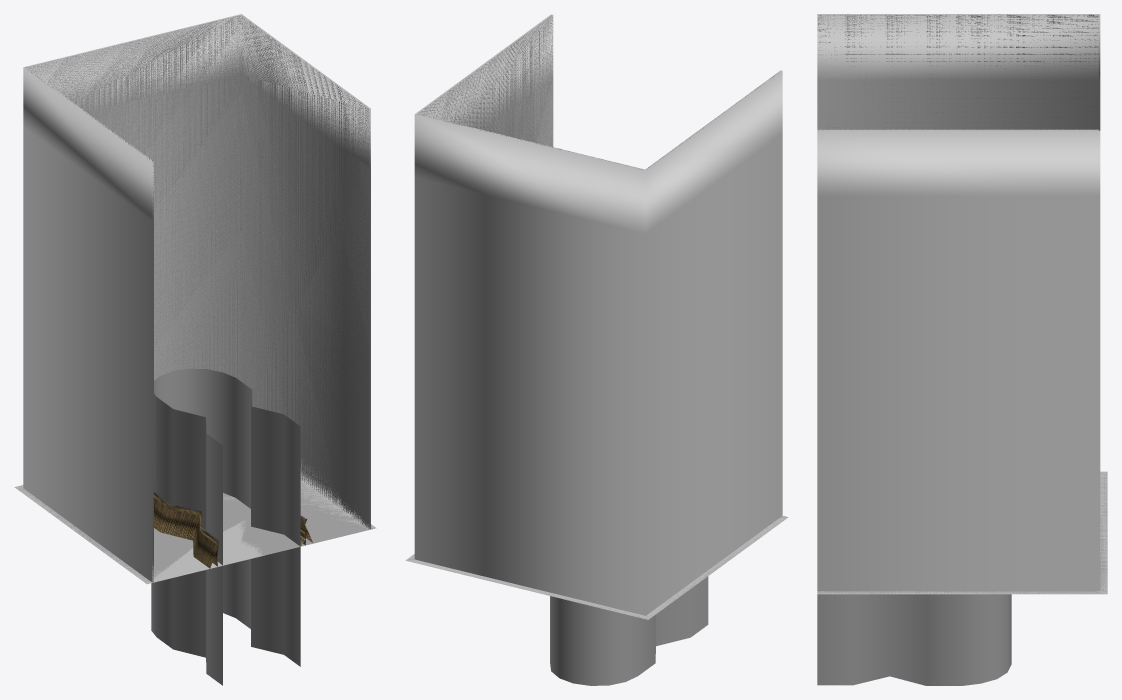
File: warp1.fbx
3 renders of one model, left to right at view 1: azimuth 30°, elevation 25°; view 2: azimuth 150°, elevation 25°; view 3: azimuth 270°, elevation 25°, orthographic. The views are drawn at different scales.
Visible parts, largest first — view 1: mdl_LOD0, col_o, col_w, mdl2_LOD; view 2: mdl_LOD0, mdl2_LOD, col_w, col_o; view 3: mdl_LOD0, mdl2_LOD, col_w, col_o.
Boxes of the visible parts, x1,y1,x2,y2 form: mdl_LOD0: [14, 75, 375, 584]; col_o: [15, 16, 375, 583]; col_w: [151, 368, 300, 685]; mdl2_LOD: [23, 14, 370, 564]; mdl_LOD0: [406, 78, 788, 619]; mdl2_LOD: [414, 14, 782, 233]; col_w: [550, 576, 708, 685]; col_o: [406, 15, 787, 619]; mdl_LOD0: [817, 79, 1107, 594]; mdl2_LOD: [817, 14, 1100, 196]; col_w: [817, 594, 1011, 685]; col_o: [817, 14, 1107, 594].
Size of what is drawn, in the model's own units: 1600 by 3600 by 1600.
